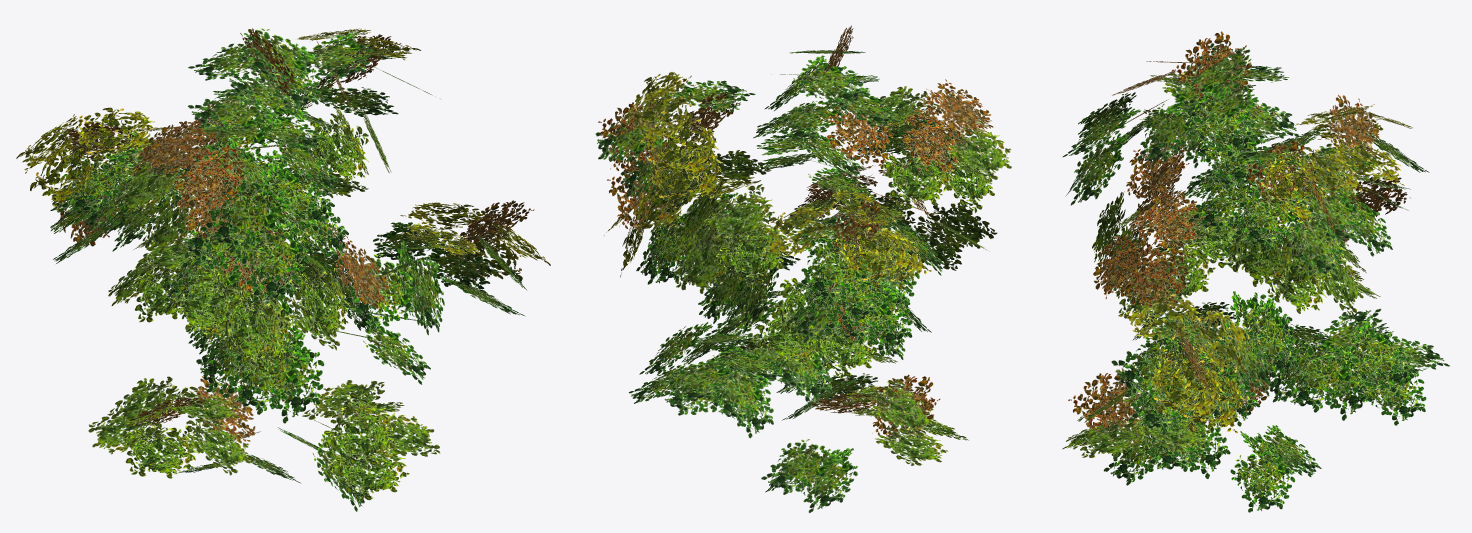
Rendered from tree-leaves-only.obj.
The picture shows the model from 3 angles, left to right: view 1: azimuth 30°, elevation 25°; view 2: azimuth 150°, elevation 25°; view 3: azimuth 270°, elevation 25°; orthographic projection. The views are drawn at different scales.
Bounding box in the file's own units: 11.27 × 12.37 × 9.55.
